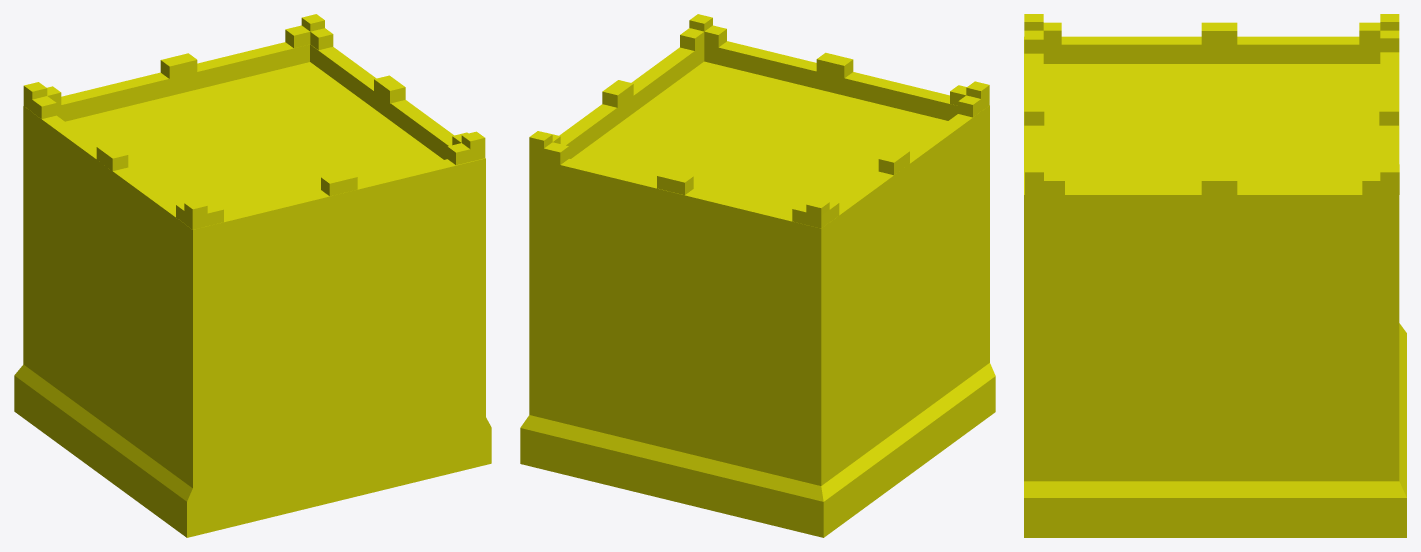
Rendered from Mini_Batiment.fbx.
3 renders of one model, left to right at view 1: azimuth 30°, elevation 25°; view 2: azimuth 150°, elevation 25°; view 3: azimuth 270°, elevation 25°, orthographic. The views are drawn at different scales.
Visible parts, largest first — view 1: pCube22; view 2: pCube22; view 3: pCube22.
Part boxes in pixels (x1,y1,x2,y2): pCube22: [14, 14, 491, 537]; pCube22: [520, 14, 995, 537]; pCube22: [1024, 14, 1406, 537].
Bounding box in the file's own units: 15.2 × 15.59 × 14.93.
